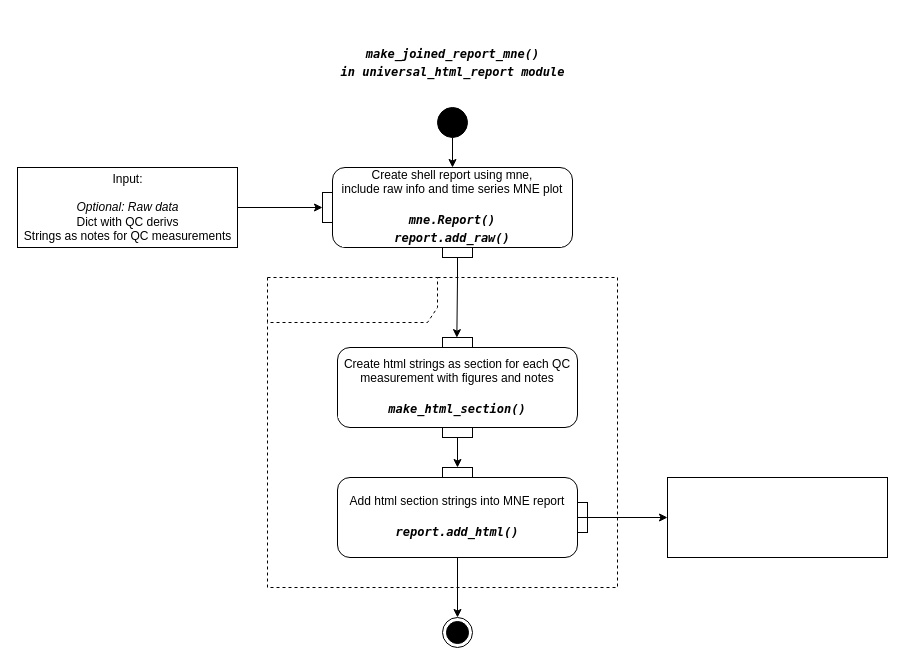
Image size: 905x665. Some labels were removed from this diagram. The centre of each missing label's shape, as x and y in pixels:
Loop [for every QC measurement]: point (442, 432)
Ouput: HTML report: point (777, 517)
